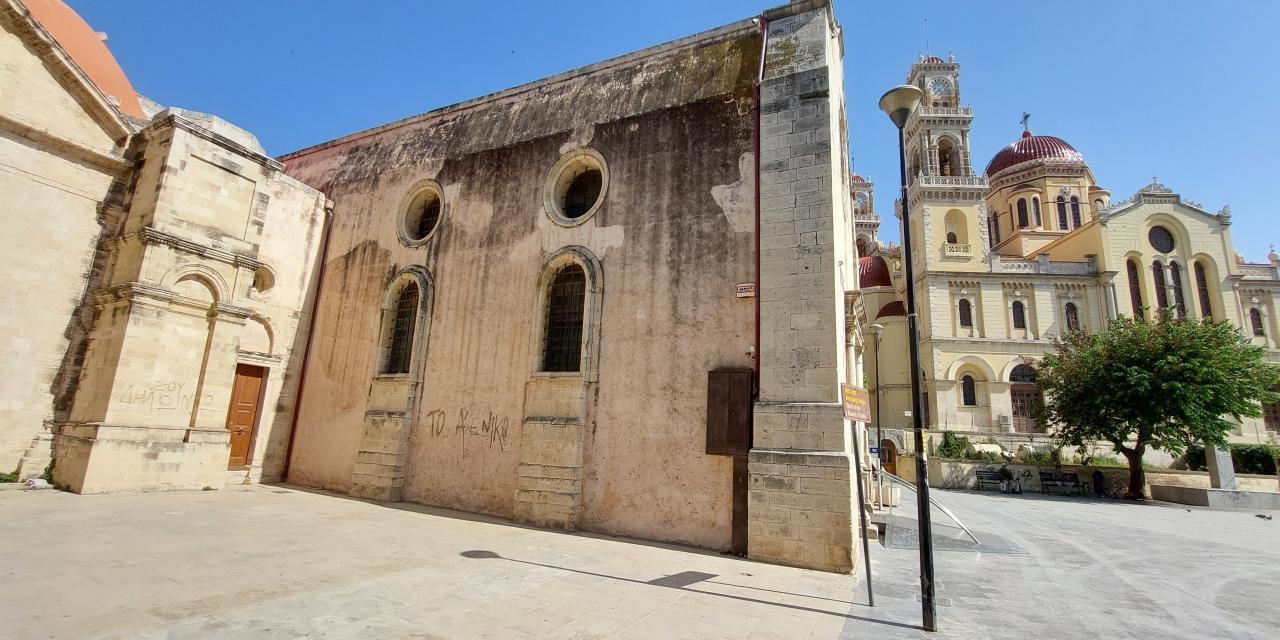Agia Aikaterini: (1, 2, 876, 576)
